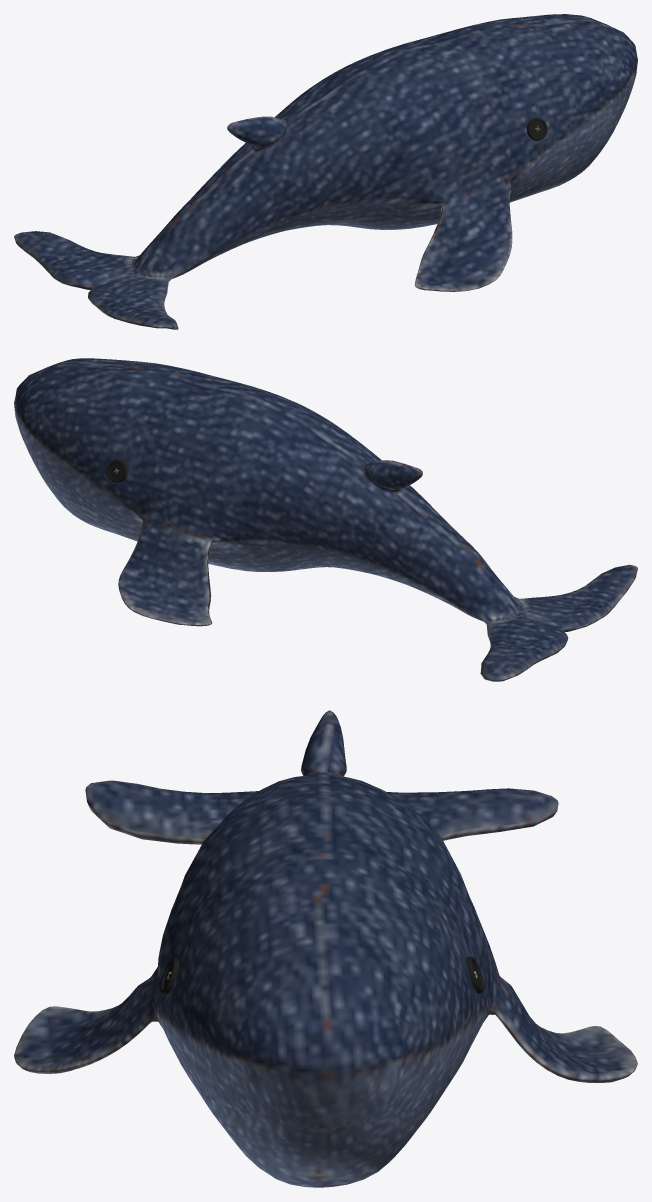
Rendered from whale_final.obj.
The picture shows the model from 3 angles, top to bottom: view 1: azimuth 30°, elevation 25°; view 2: azimuth 150°, elevation 25°; view 3: azimuth 270°, elevation 25°; orthographic projection. The views are drawn at different scales.
Parts seen in each view (by area): view 1: whale_final; view 2: whale_final; view 3: whale_final.
Part boxes in pixels (x1=…): whale_final: x1=14, y1=14, x2=637, y2=329; whale_final: x1=14, y1=358, x2=637, y2=681; whale_final: x1=14, y1=710, x2=637, y2=1187.
Bounding box in the file's own units: 57.28 × 16.49 × 33.24.
